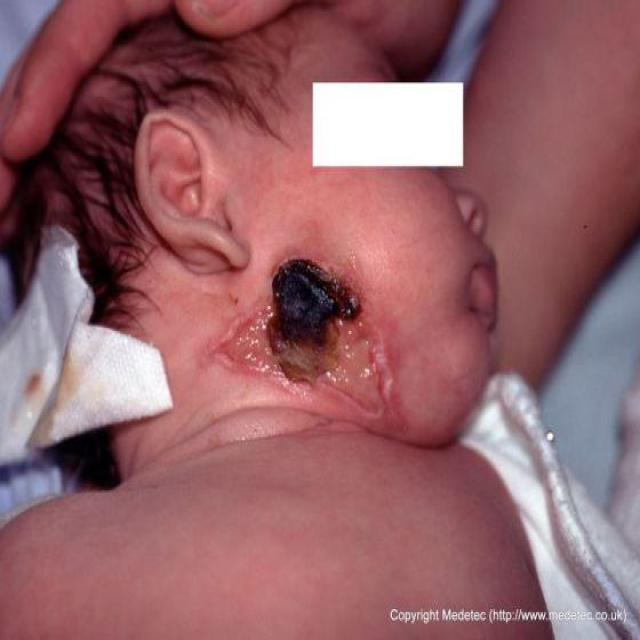Unstageable: (221, 259, 392, 412)
